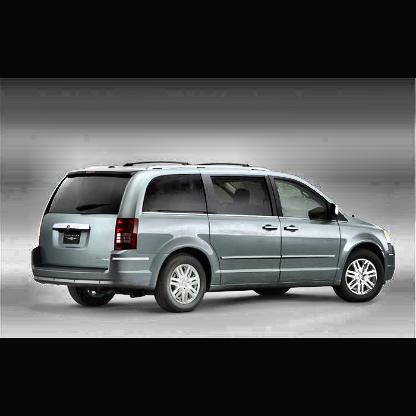Chrysler Town and Country Minivan 2012: (20, 146, 409, 319)
